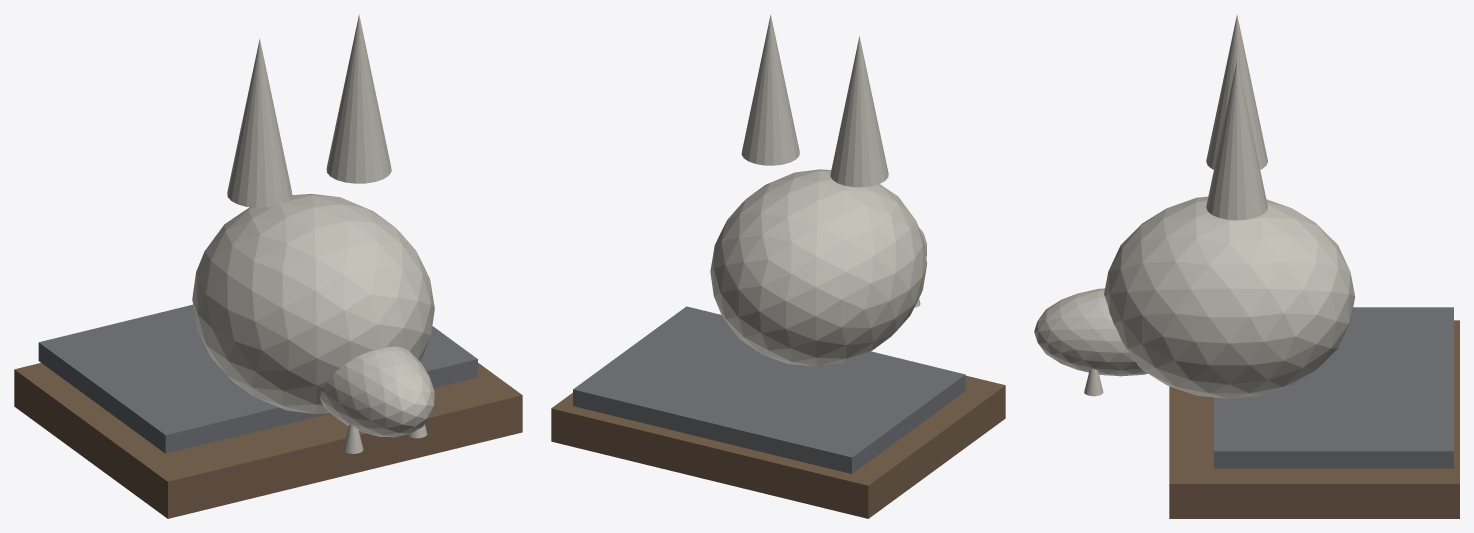
Rendered from MonsterHead_Trophy.glb.
The picture shows the model from 3 angles, left to right: view 1: azimuth 30°, elevation 25°; view 2: azimuth 150°, elevation 25°; view 3: azimuth 270°, elevation 25°; orthographic projection. The views are drawn at different scales.
Visible parts, largest first — view 1: Skull, Plaque, BackPlate, Snout, Horn_0.14, Horn_-0.14; view 2: BackPlate, Skull, Plaque, Horn_-0.14, Horn_0.14; view 3: Skull, BackPlate, Plaque, Snout, Horn_0.14, Horn_-0.14.
Boxes of the visible parts, x1=… form: Skull: x1=192, y1=193, x2=434, y2=413; Plaque: x1=14, y1=363, x2=522, y2=518; BackPlate: x1=38, y1=304, x2=477, y2=453; Snout: x1=320, y1=346, x2=434, y2=437; Horn_0.14: x1=326, y1=14, x2=391, y2=183; Horn_-0.14: x1=227, y1=38, x2=292, y2=207; BackPlate: x1=573, y1=306, x2=965, y2=473; Skull: x1=710, y1=169, x2=927, y2=366; Plaque: x1=551, y1=375, x2=1005, y2=518; Horn_-0.14: x1=830, y1=36, x2=888, y2=187; Horn_0.14: x1=741, y1=15, x2=799, y2=165; Skull: x1=1104, y1=196, x2=1355, y2=398; BackPlate: x1=1214, y1=307, x2=1453, y2=468; Plaque: x1=1169, y1=320, x2=1459, y2=518; Snout: x1=1034, y1=288, x2=1147, y2=376; Horn_0.14: x1=1206, y1=60, x2=1267, y2=220; Horn_-0.14: x1=1206, y1=14, x2=1267, y2=169.
Size of the model in its own units: 1 by 1.14 by 1.1.
